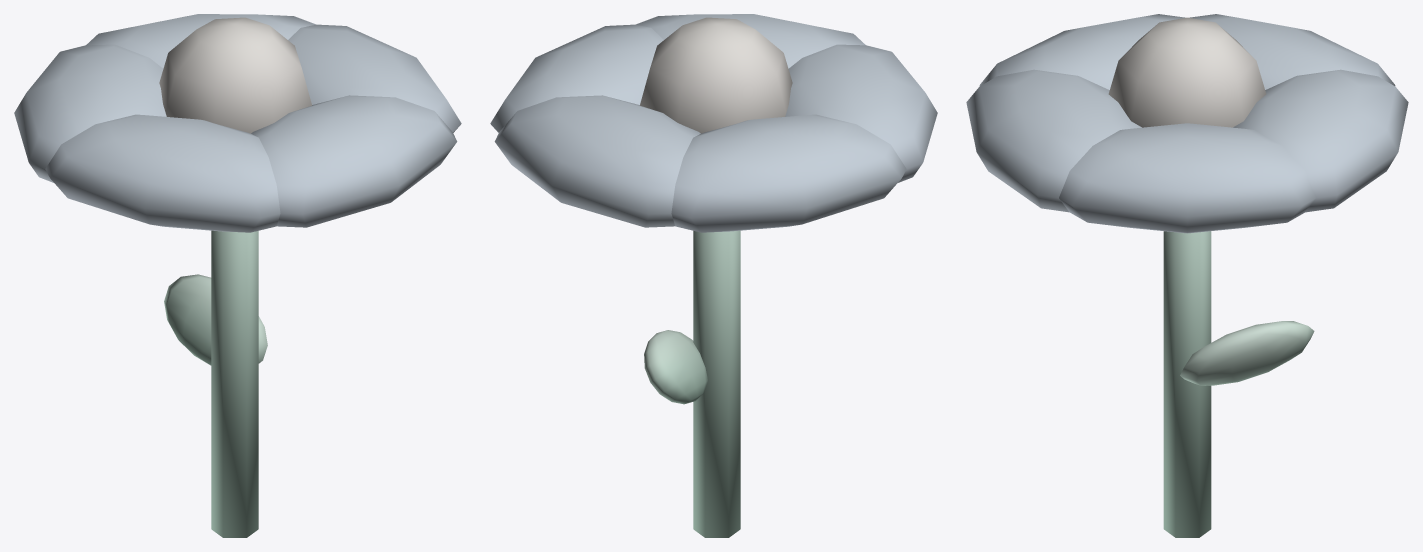
Rendered from flower_cool.glb.
3 views of the same model, side by side, from view 1: azimuth 30°, elevation 25°; view 2: azimuth 150°, elevation 25°; view 3: azimuth 270°, elevation 25° (orthographic).
Parts seen in each view (by area): view 1: Petal.003, Petal.004, Stem, FlowerHeart, Petal.002, Petal, Petal.001, Leaf; view 2: Petal.002, Petal.001, Stem, FlowerHeart, Petal.003, Petal, Petal.004, Leaf; view 3: Petal, Petal.001, Petal.004, Stem, FlowerHeart, Petal.002, Petal.003, Leaf.
Boxes of the visible parts, bbox=[...] form: Petal.003: bbox=[45, 114, 280, 232]; Petal.004: bbox=[251, 95, 457, 227]; Stem: bbox=[211, 230, 258, 537]; FlowerHeart: bbox=[159, 17, 311, 133]; Petal.002: bbox=[14, 44, 166, 182]; Petal: bbox=[288, 24, 461, 132]; Petal.001: bbox=[86, 14, 315, 68]; Leaf: bbox=[164, 274, 267, 365]; Petal.002: bbox=[671, 114, 906, 232]; Petal.001: bbox=[494, 95, 700, 227]; Stem: bbox=[693, 230, 740, 537]; FlowerHeart: bbox=[640, 17, 792, 133]; Petal.003: bbox=[785, 44, 937, 182]; Petal: bbox=[490, 24, 663, 132]; Petal.004: bbox=[636, 14, 865, 68]; Leaf: bbox=[644, 330, 707, 404]; Petal: bbox=[1059, 123, 1315, 233]; Petal.001: bbox=[1233, 69, 1408, 212]; Petal.004: bbox=[966, 69, 1141, 212]; Stem: bbox=[1163, 231, 1211, 537]; FlowerHeart: bbox=[1108, 17, 1266, 127]; Petal.002: bbox=[1189, 14, 1395, 89]; Petal.003: bbox=[979, 14, 1185, 89]; Leaf: bbox=[1180, 321, 1314, 385].
Bounding box in the file's own units: 0.3395 × 0.4225 × 0.3356.
